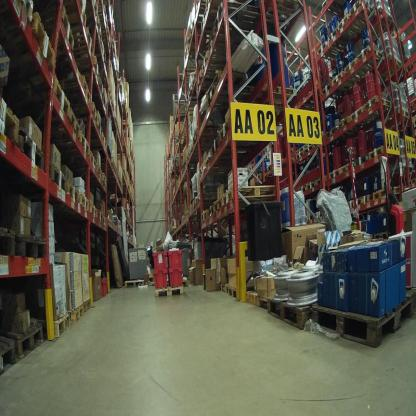pallet: (307, 292, 413, 350), (2, 9, 56, 75), (16, 72, 71, 119), (84, 277, 147, 315), (222, 177, 283, 216), (266, 285, 313, 331), (3, 314, 49, 358), (210, 24, 256, 66), (8, 124, 46, 173), (201, 43, 256, 76), (43, 4, 75, 58), (216, 1, 264, 36), (54, 64, 91, 107), (56, 18, 93, 58), (250, 79, 298, 109), (37, 110, 80, 143), (31, 308, 70, 343), (208, 134, 254, 161), (16, 227, 48, 263), (202, 149, 253, 169), (1, 95, 22, 143), (351, 42, 385, 70), (336, 58, 373, 83), (0, 0, 37, 24), (350, 104, 384, 130), (329, 69, 362, 95), (363, 93, 394, 120), (56, 1, 88, 27), (350, 4, 379, 31), (2, 219, 21, 260), (337, 112, 368, 137), (338, 12, 364, 41), (262, 2, 305, 19), (314, 44, 347, 66), (387, 103, 412, 132), (70, 53, 100, 77), (199, 69, 227, 94), (183, 37, 212, 61), (324, 26, 354, 49), (207, 77, 229, 108), (1, 335, 17, 376), (48, 162, 69, 193), (220, 113, 239, 147), (372, 183, 404, 203), (85, 16, 109, 42), (368, 143, 399, 162), (72, 126, 91, 155), (155, 281, 185, 299), (320, 82, 348, 101), (74, 101, 97, 124), (226, 283, 258, 299), (326, 126, 354, 144), (81, 74, 104, 95), (193, 126, 217, 146), (69, 302, 84, 331), (196, 165, 231, 176), (84, 144, 97, 172), (81, 2, 103, 18), (383, 56, 404, 72), (251, 292, 269, 310), (192, 69, 212, 84), (340, 159, 357, 176), (67, 180, 80, 201), (299, 182, 312, 203), (78, 192, 89, 214), (357, 194, 372, 210), (353, 151, 369, 166), (309, 175, 326, 189), (88, 198, 98, 221), (189, 74, 199, 97), (326, 166, 342, 180), (213, 194, 222, 218), (191, 144, 208, 156), (93, 161, 103, 181), (97, 113, 104, 141), (347, 194, 357, 212), (99, 93, 109, 110), (307, 208, 318, 223), (303, 144, 319, 154), (179, 271, 188, 288), (102, 129, 108, 153), (199, 207, 208, 222), (102, 171, 109, 190), (318, 206, 328, 219), (196, 189, 202, 210), (315, 130, 326, 141), (223, 280, 231, 295), (304, 137, 314, 149), (403, 177, 416, 186), (295, 143, 304, 154), (295, 148, 304, 159), (208, 204, 213, 218), (188, 202, 193, 215), (193, 195, 197, 210)
small_load_carrier: (152, 249, 168, 289), (167, 245, 183, 272), (167, 265, 185, 288)
